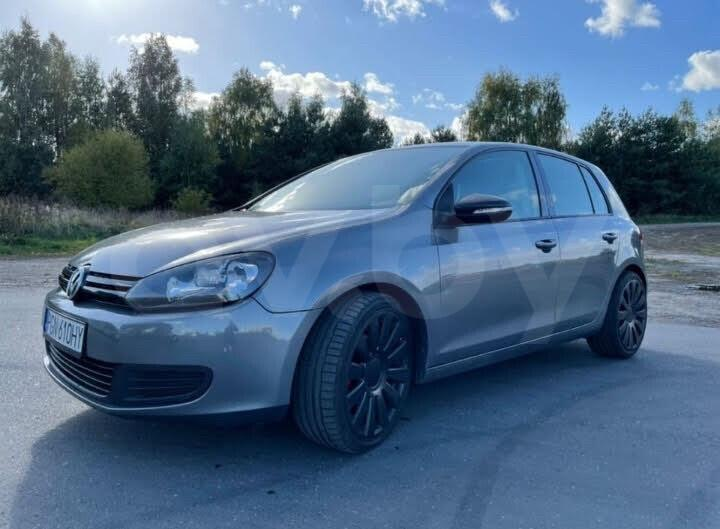Golf_2008-2013: (40, 134, 648, 455)
